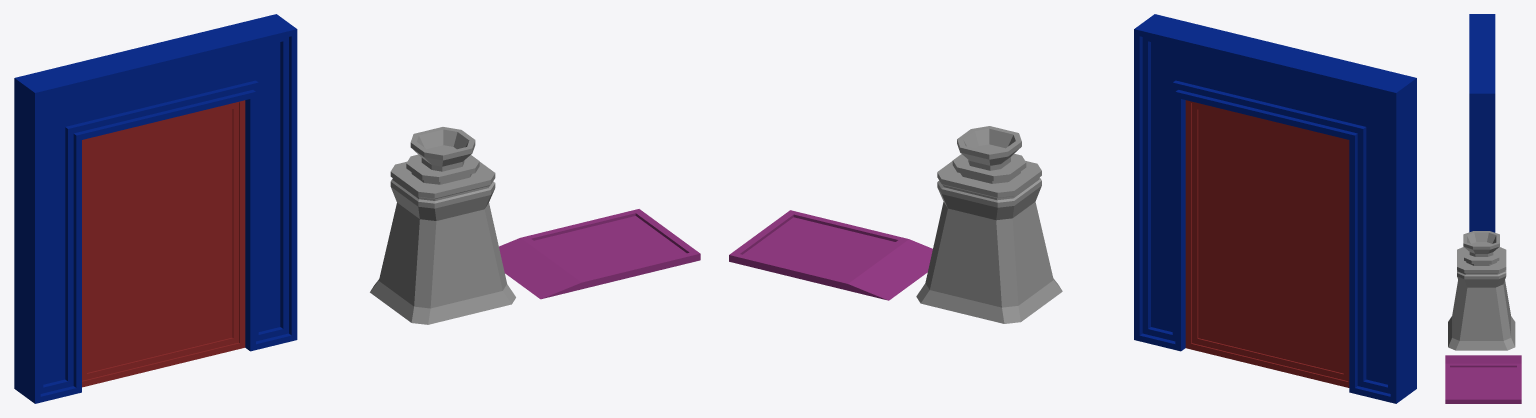
File: SimpleDoorWeight.FBX
3 renders of one model, left to right at view 1: azimuth 30°, elevation 25°; view 2: azimuth 150°, elevation 25°; view 3: azimuth 270°, elevation 25°, orthographic. The views are drawn at different scales.
Parts seen in each view (by area): view 1: Box002, Door, Box001, Pedestal; view 2: Box002, Door, Box001, Pedestal; view 3: Box001, Box002, Pedestal.
Boxes of the visible parts, box(x1,y1,x2,y2) form: Box002: box(14, 14, 297, 403); Door: box(82, 100, 245, 387); Box001: box(370, 127, 515, 324); Pedestal: box(499, 209, 700, 299); Box002: box(1134, 14, 1416, 403); Door: box(1185, 100, 1349, 387); Box001: box(916, 126, 1062, 323); Pedestal: box(729, 210, 932, 300); Box001: box(1448, 231, 1515, 350); Box002: box(1469, 14, 1495, 232); Pedestal: box(1445, 355, 1521, 403).
Size of the model in its own units: 237 by 109 by 38.88.
